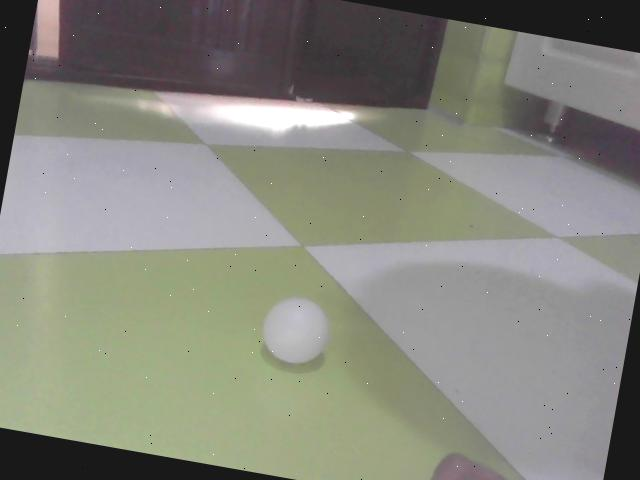ball: (256, 292, 334, 368)
